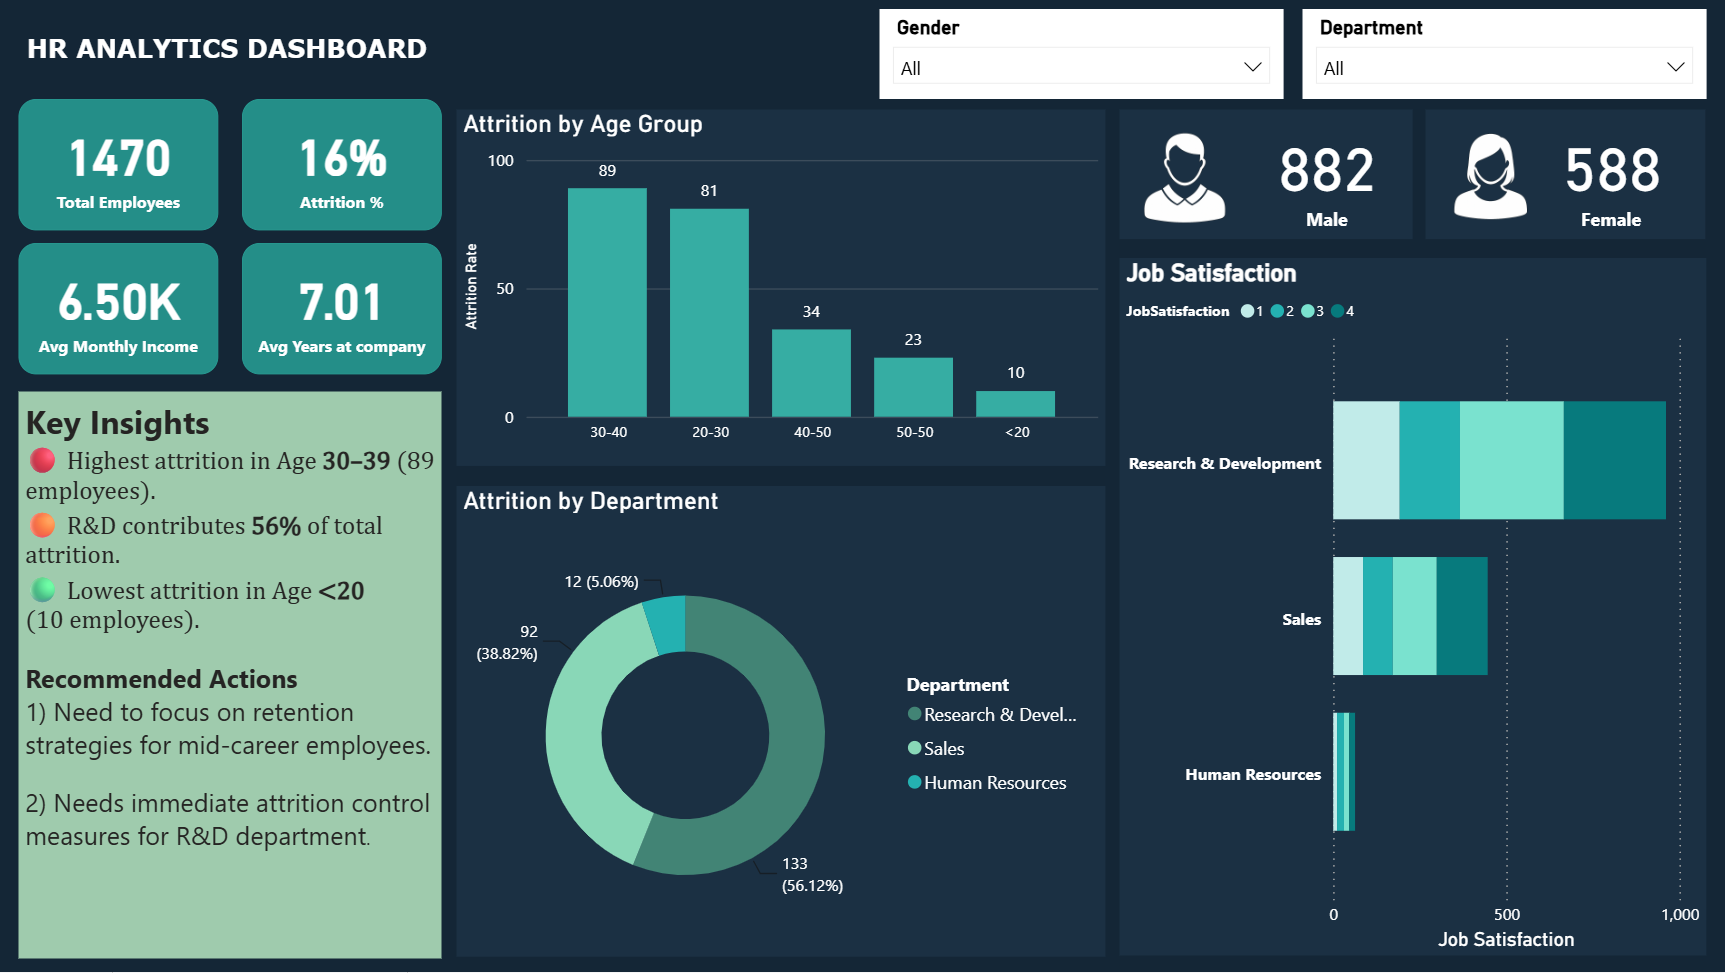

What the dashboard file says about the page in this screenshot:
{"tool":"powerbi","page":{"name":"Page 1","canvas":[1280,720],"ordinal":0},"visuals":[{"type":"card","fields":{"Values":["Sum(HR Analytics Data.EmployeeCount)"]},"box":[14.3,73.2,147.9,97],"z":0},{"type":"card","fields":{"Values":["HR Analytics Data.Attrition %"]},"box":[179.7,73.2,147.9,97],"z":1000},{"type":"card","fields":{"Values":["HR Analytics Data.Avg Monthly Income"]},"box":[14.3,179.7,147.9,97],"z":2000},{"type":"card","fields":{"Values":["HR Analytics Data.Avg Years at company"]},"box":[179.7,179.7,147.9,97],"z":3000},{"type":"textbox","box":[15.9,19.1,343.6,41.4],"z":4000},{"type":"columnChart","title":"Attrition by Age Group","fields":{"Y":["CountNonNull(HR Analytics Data.Attrition Yes)"],"Category":["HR Analytics Data.Age Group"]},"box":[338.9,81.5,480.4,264.3],"z":5000},{"type":"shape","box":[830.1,81.5,217.1,96.3],"z":6000},{"type":"card","fields":{"Values":["CountNonNull(HR Analytics Data.Gender)"]},"box":[920.5,81.5,126.7,96.3],"z":7000},{"type":"image","box":[830.1,82.5,96.3,96.3],"z":8000},{"type":"shape","box":[1057,81.5,207.3,96.3],"z":9000},{"type":"image","box":[1057,81.5,96.3,96.3],"z":10000},{"type":"card","fields":{"Values":["CountNonNull(HR Analytics Data.Gender)"]},"box":[1129.7,81.5,127.7,97.3],"z":11000},{"type":"barChart","title":"Job Satisfaction ","fields":{"Series":["HR Analytics Data.JobSatisfaction"],"Category":["HR Analytics Data.Department"],"Y":["CountNonNull(HR Analytics Data.JobSatisfaction)"]},"box":[830,190.6,434.5,516.9],"z":12000},{"type":"donutChart","title":"Attrition by Department","fields":{"Category":["HR Analytics Data.Department"],"Y":["CountNonNull(HR Analytics Data.Attrition Yes)"]},"box":[338.9,359.5,480.4,348.7],"z":13000},{"type":"slicer","fields":{"Values":["HR Analytics Data.Department"]},"box":[965.5,6.4,299,66.8],"z":13002},{"type":"textbox","box":[14.3,289.5,313.4,419.9],"z":13003},{"type":"slicer","fields":{"Values":["HR Analytics Data.Gender"]},"box":[652.2,6.4,299,66.8],"z":13004}]}

Visuals, with their boxes in screenshot pixels (x1, y1, x2, y2), scaled from the page's 1280x720 canvas onto the 1725x973 screenshot:
card - Sum(HR Analytics Data.EmployeeCount): x1=19 y1=99 x2=219 y2=230
card - HR Analytics Data.Attrition %: x1=242 y1=99 x2=441 y2=230
card - HR Analytics Data.Avg Monthly Income: x1=19 y1=243 x2=219 y2=374
card - HR Analytics Data.Avg Years at company: x1=242 y1=243 x2=441 y2=374
textbox: x1=21 y1=26 x2=484 y2=82
"Attrition by Age Group" columnChart: x1=457 y1=110 x2=1104 y2=467
shape: x1=1119 y1=110 x2=1411 y2=240
card - CountNonNull(HR Analytics Data.Gender): x1=1241 y1=110 x2=1411 y2=240
image: x1=1119 y1=111 x2=1248 y2=242
shape: x1=1424 y1=110 x2=1704 y2=240
image: x1=1424 y1=110 x2=1554 y2=240
card - CountNonNull(HR Analytics Data.Gender): x1=1522 y1=110 x2=1695 y2=242
"Job Satisfaction " barChart: x1=1119 y1=258 x2=1704 y2=956
"Attrition by Department" donutChart: x1=457 y1=486 x2=1104 y2=957
slicer - HR Analytics Data.Department: x1=1301 y1=9 x2=1704 y2=99
textbox: x1=19 y1=391 x2=442 y2=959
slicer - HR Analytics Data.Gender: x1=879 y1=9 x2=1282 y2=99
